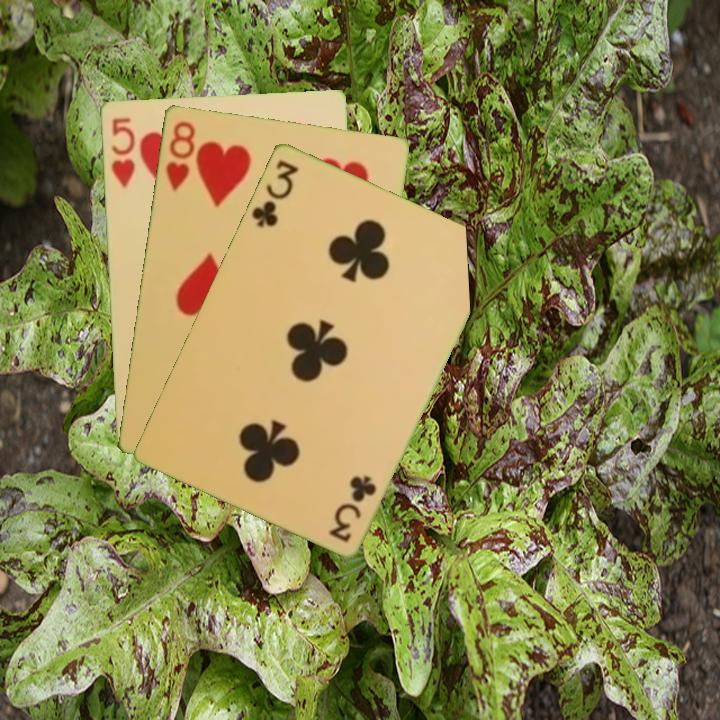3c: (247, 156, 301, 230), (326, 470, 379, 545)
5h: (107, 113, 138, 190)
8h: (162, 117, 198, 193)
